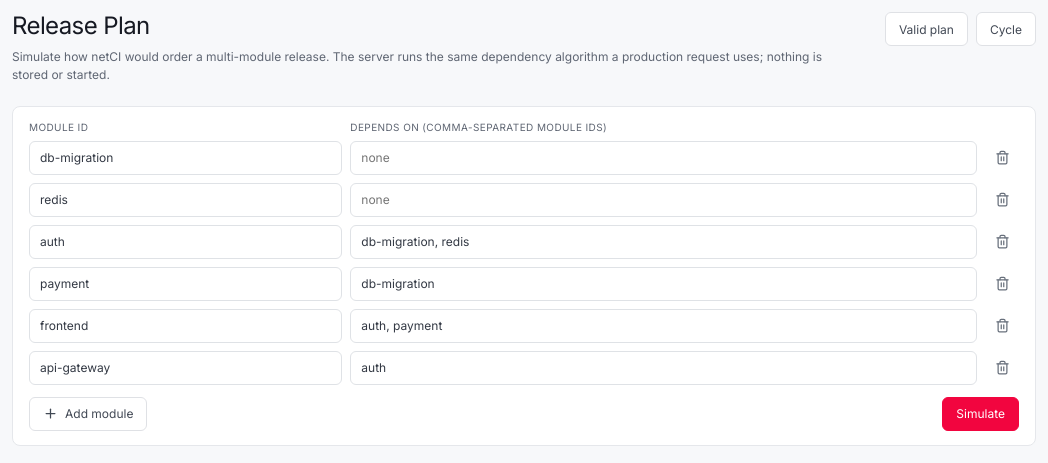
Test: ReleasePlanPage › renders the blocked panel with the cycle path for an invalid plan
Step 1. Click the button "Cycle" → (1006, 29), box [976,12,1036,46]
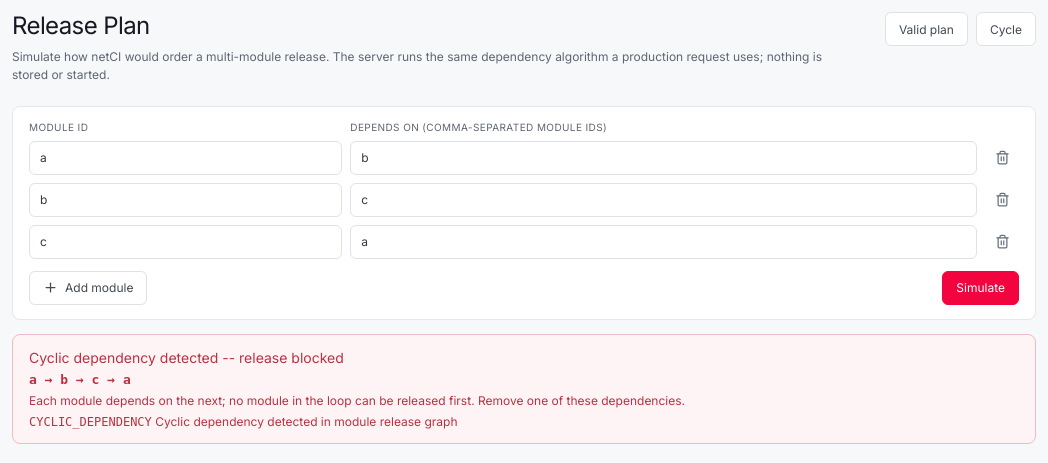
Expected: the heading "Cyclic dependency detected -- release blocked" is shown, [29,349,344,366]
Expected: the text "a → b → c → a" is shown, [29,372,131,387]
